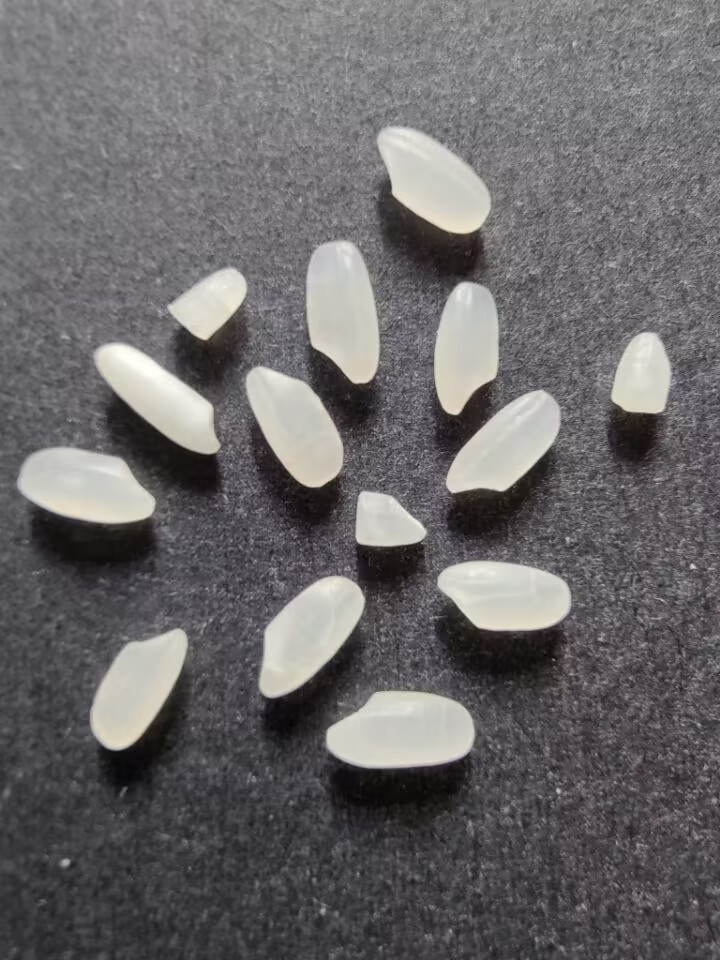broken: (161, 264, 251, 345), (605, 327, 674, 418), (352, 487, 433, 554)
rice: (88, 339, 224, 460), (251, 570, 367, 700), (438, 390, 565, 499), (242, 362, 349, 491), (374, 121, 494, 236), (88, 623, 191, 756), (322, 688, 480, 772), (14, 445, 159, 528), (302, 237, 381, 388), (433, 557, 573, 635), (430, 279, 502, 418)
